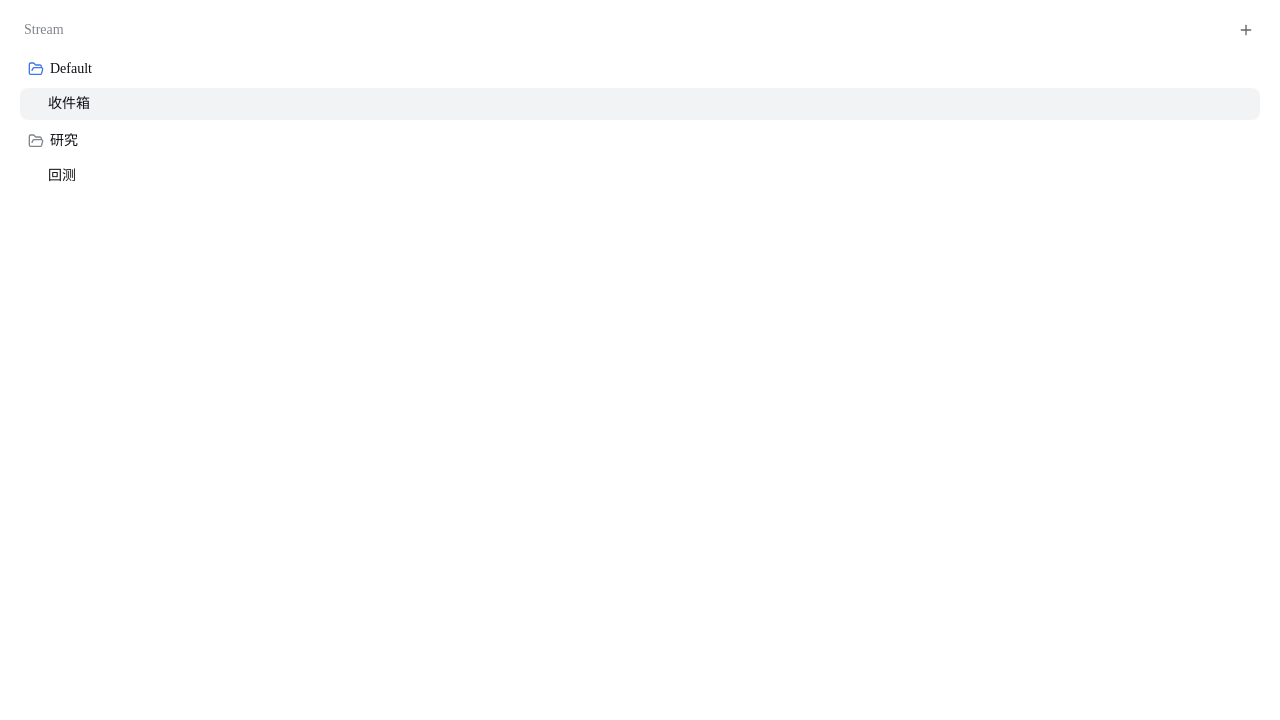
Scenario: 宿主动作栏（footer） › 弹窗按 Esc 关掉
Click the button named "新建" at [1246, 30], box left=1232, top=16, right=1260, bottom=44
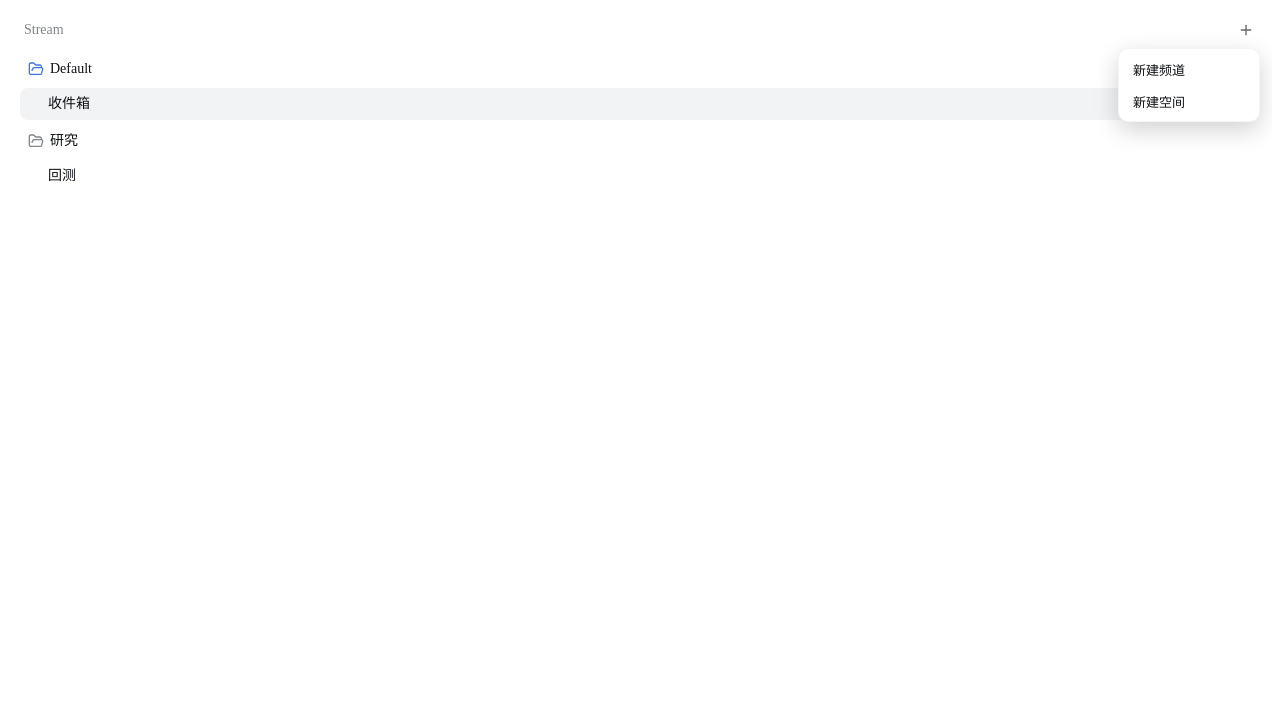
Click the menu item "新建频道" at [1189, 69], box left=1123, top=53, right=1255, bottom=85
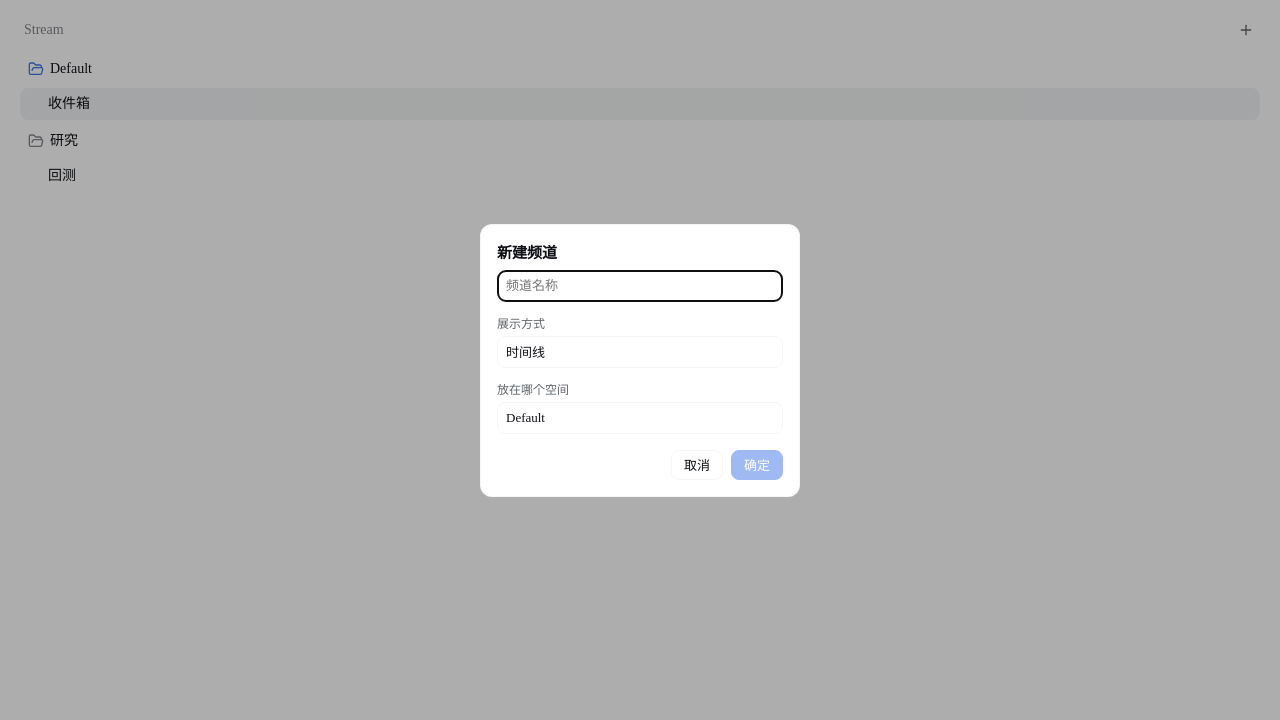
Check: the dialog is shown, box left=480, top=224, right=800, bottom=496
Press Escape
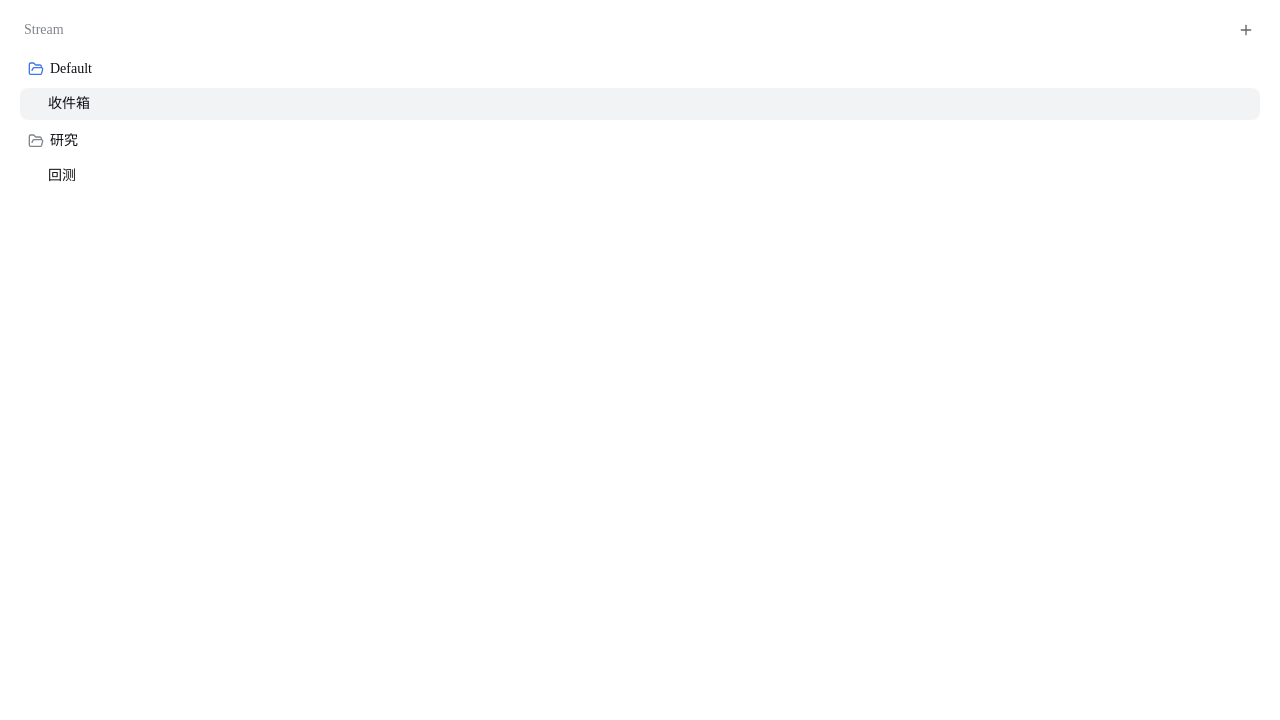
Check: the dialog is gone
